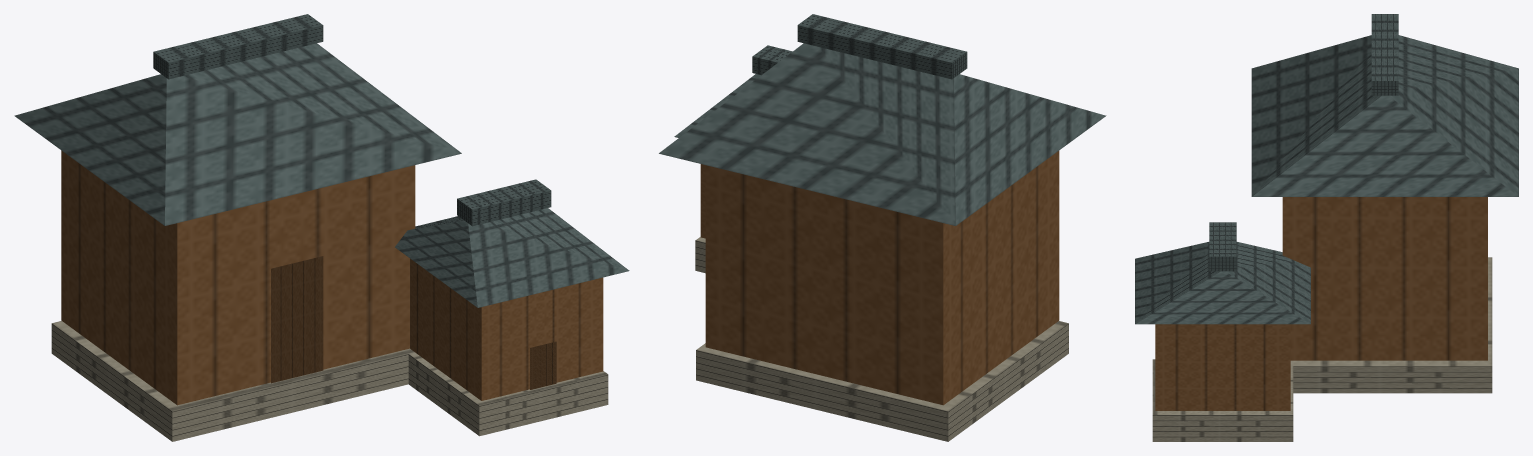
The model's file is domestic-STABLE-2-lod2.glb.
3 renders of one model, left to right at view 1: azimuth 30°, elevation 25°; view 2: azimuth 150°, elevation 25°; view 3: azimuth 270°, elevation 25°, orthographic. The views are drawn at different scales.
Size of the model in its own units: 0.755 by 0.594 by 0.7095.
1 material, 1 textured.
